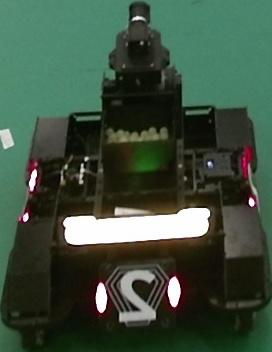armor_2: (97, 276, 181, 313)
back_2: (107, 261, 170, 327)
light: (61, 207, 210, 245)
